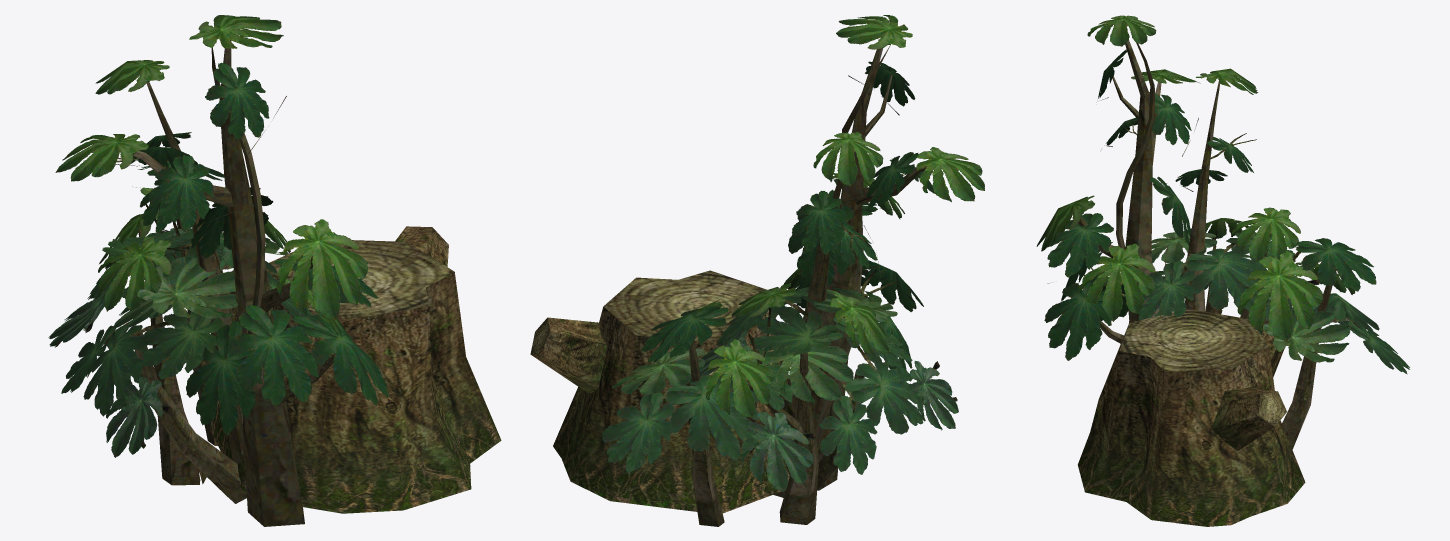
File: guanmu_09.FBX
3 views of the same model, side by side, from view 1: azimuth 30°, elevation 25°; view 2: azimuth 150°, elevation 25°; view 3: azimuth 270°, elevation 25° (orthographic). The views are drawn at different scales.
Parts seen in each view (by area): view 1: guanmu_09_02, guanmu_09_01, guanmu_09_05, guanmu_09_03; view 2: guanmu_09_02, guanmu_09_05, guanmu_09_01, guanmu_09_03; view 3: guanmu_09_02, guanmu_09_01, guanmu_09_05, guanmu_09_03.
Part boxes in pixels (x1,y1,x2,y2): guanmu_09_02: (55,15,390,526); guanmu_09_01: (211,226,501,513); guanmu_09_05: (48,228,319,457); guanmu_09_03: (231,240,454,319); guanmu_09_02: (641,15,984,526); guanmu_09_05: (602,286,958,491); guanmu_09_01: (531,307,789,513); guanmu_09_03: (530,270,768,375); guanmu_09_02: (1036,15,1376,449); guanmu_09_01: (1078,319,1305,526); guanmu_09_05: (1137,230,1409,374); guanmu_09_03: (1119,309,1286,426).
Bounding box in the file's own units: 3.4 × 3.67 × 3.29.
